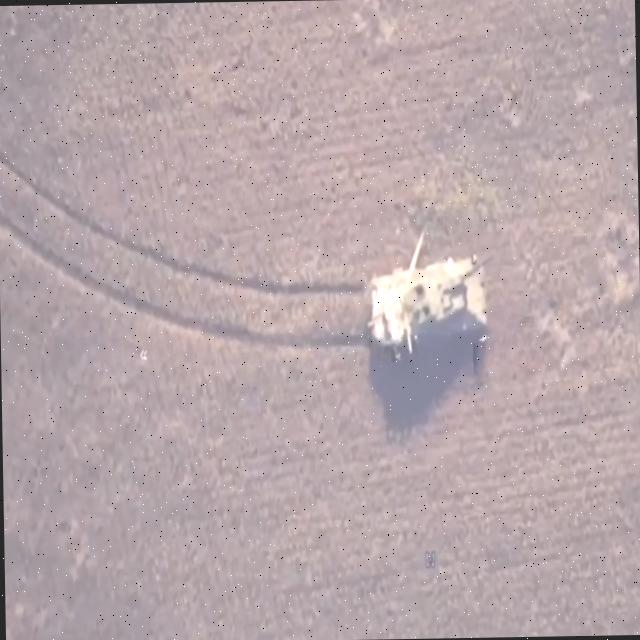MBT: (365, 246, 510, 358)
